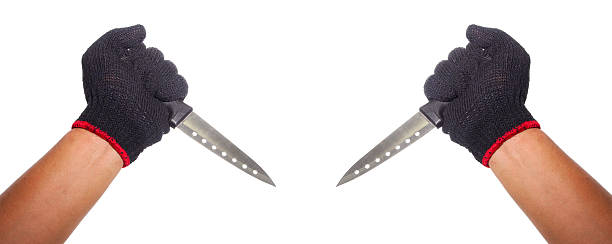knife: (160, 100, 278, 193), (334, 100, 446, 189)
